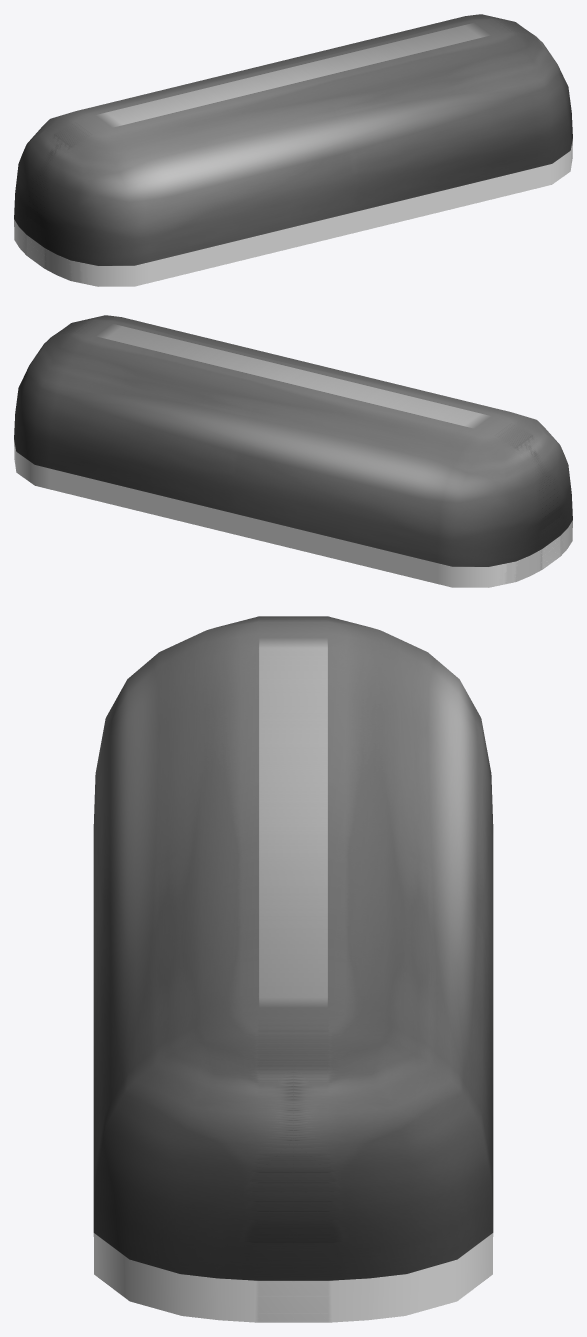
Rendered from note.obj.
The picture shows the model from 3 angles, top to bottom: view 1: azimuth 30°, elevation 25°; view 2: azimuth 150°, elevation 25°; view 3: azimuth 270°, elevation 25°; orthographic projection. The views are drawn at different scales.
Visible parts, largest first — view 1: note_Material.001, note_Material.002; view 2: note_Material.001, note_Material.002; view 3: note_Material.001, note_Material.002.
Part boxes in pixels (bbox=[...]): note_Material.001: bbox=[14, 14, 572, 265]; note_Material.002: bbox=[14, 139, 572, 286]; note_Material.001: bbox=[14, 315, 572, 566]; note_Material.002: bbox=[14, 440, 572, 587]; note_Material.001: bbox=[93, 616, 493, 1280]; note_Material.002: bbox=[93, 1233, 493, 1322].
Bounding box in the file's own units: 0.746 × 0.1713 × 0.2501.
2 materials, 2 textured.
